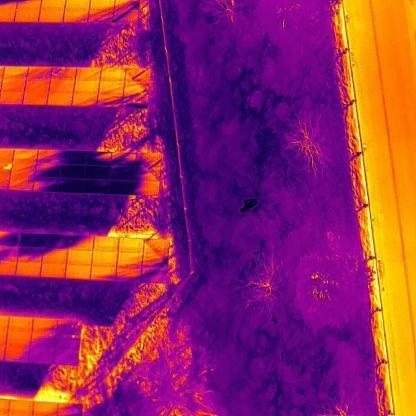anomaly: (46, 153, 142, 197), (8, 233, 81, 251), (147, 251, 170, 284), (114, 1, 139, 25), (29, 348, 54, 364), (56, 319, 82, 334), (53, 349, 79, 364), (54, 334, 80, 348), (31, 333, 55, 346), (129, 100, 151, 111)
